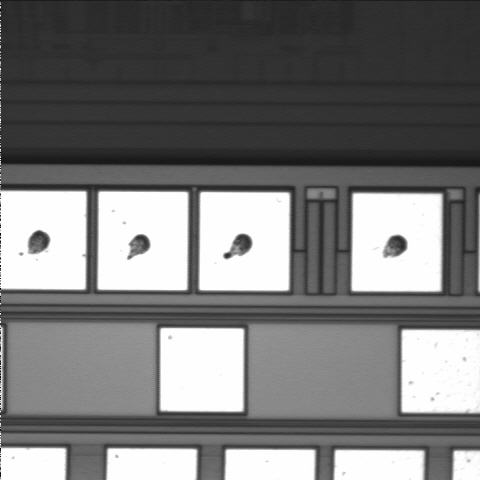pad: (199, 192, 290, 291), (98, 192, 188, 290), (352, 193, 442, 291), (160, 328, 244, 412)
